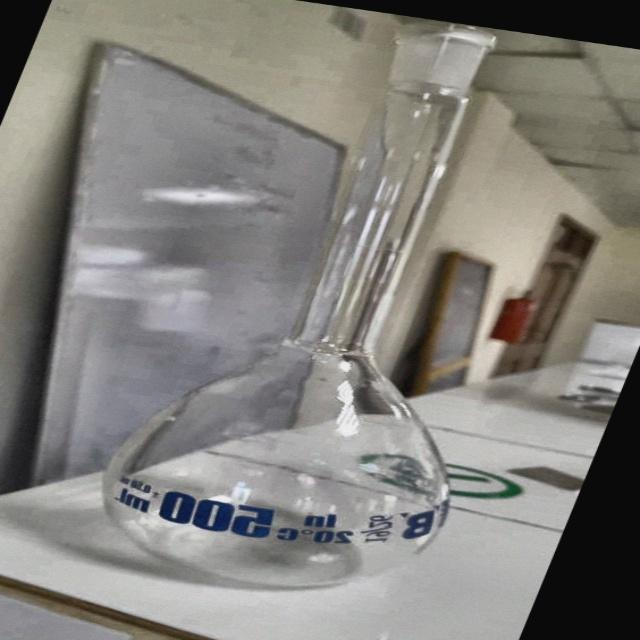Volumetric flask: (55, 2, 640, 612)
